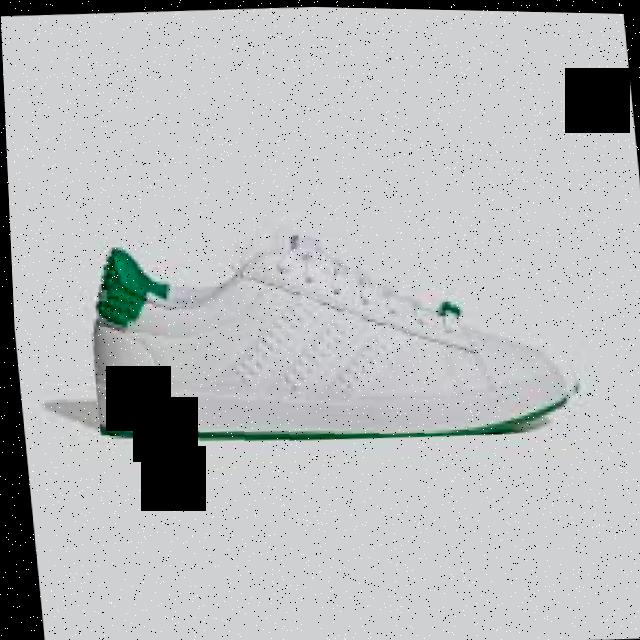shoe: (79, 219, 588, 454)
